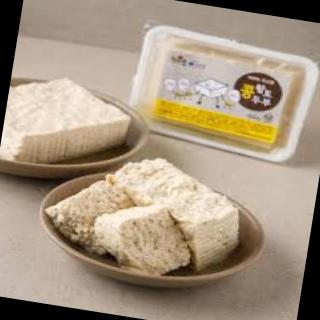Tahu: (45, 143, 266, 320), (1, 66, 136, 181)
